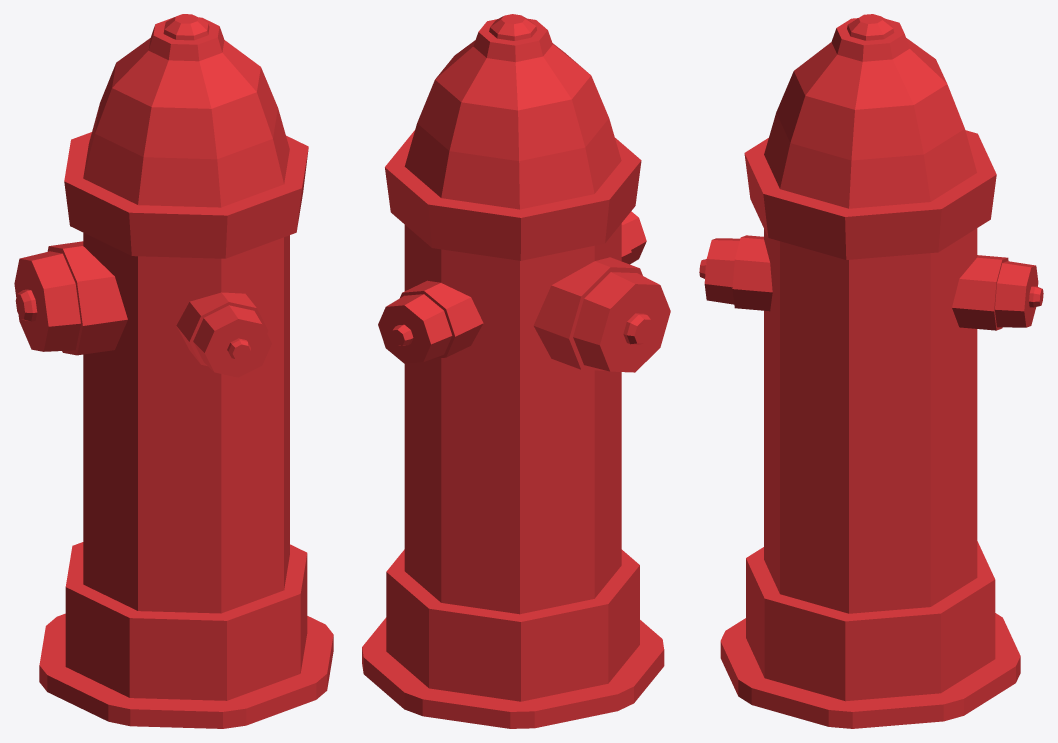
Rendered from idrante.fbx.
3 views of the same model, side by side, from view 1: azimuth 30°, elevation 25°; view 2: azimuth 150°, elevation 25°; view 3: azimuth 270°, elevation 25° (orthographic).
Parts seen in each view (by area): view 1: idrante; view 2: idrante; view 3: idrante.
Part boxes in pixels (box(x1,y1,x2,y2)): idrante: box(14, 14, 333, 728); idrante: box(362, 14, 670, 728); idrante: box(699, 14, 1043, 728).
Size of the model in its own units: 30.55 by 67.19 by 32.41.
